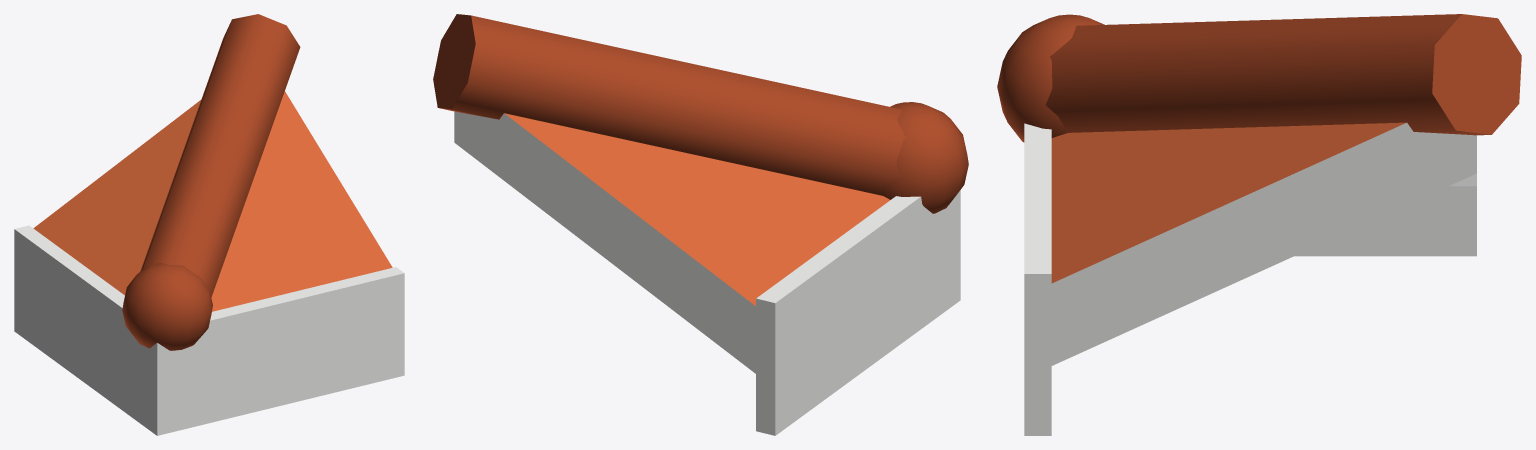
Rendered from telhado_beiral_canto_externo_i50.glb.
The picture shows the model from 3 angles, left to right: view 1: azimuth 30°, elevation 25°; view 2: azimuth 150°, elevation 25°; view 3: azimuth 270°, elevation 25°; orthographic projection. The views are drawn at different scales.
Visible parts, largest first — view 1: telhado_beiral_canto_externo_i50; view 2: telhado_beiral_canto_externo_i50; view 3: telhado_beiral_canto_externo_i50.
Part boxes in pixels (x1,y1,x2,y2): telhado_beiral_canto_externo_i50: (14,14,404,435); telhado_beiral_canto_externo_i50: (433,14,968,435); telhado_beiral_canto_externo_i50: (997,14,1521,435).
Bounding box in the file's own units: 0.5795 × 0.5066 × 0.5795.
